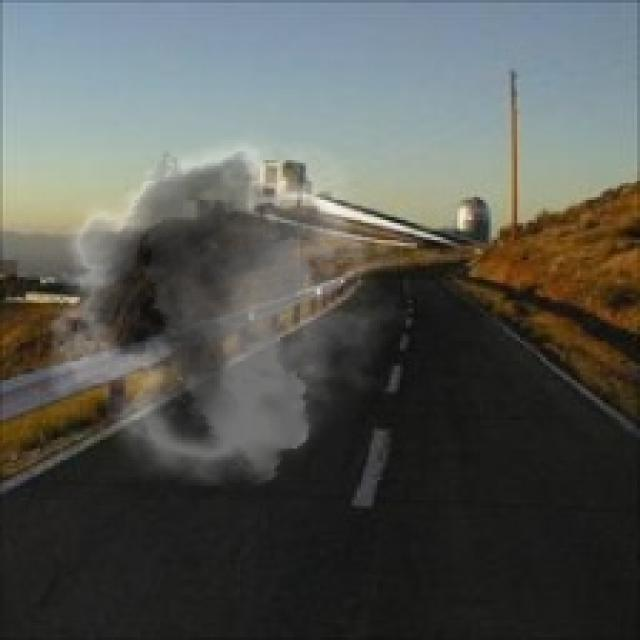Smoke: (29, 120, 412, 486)
